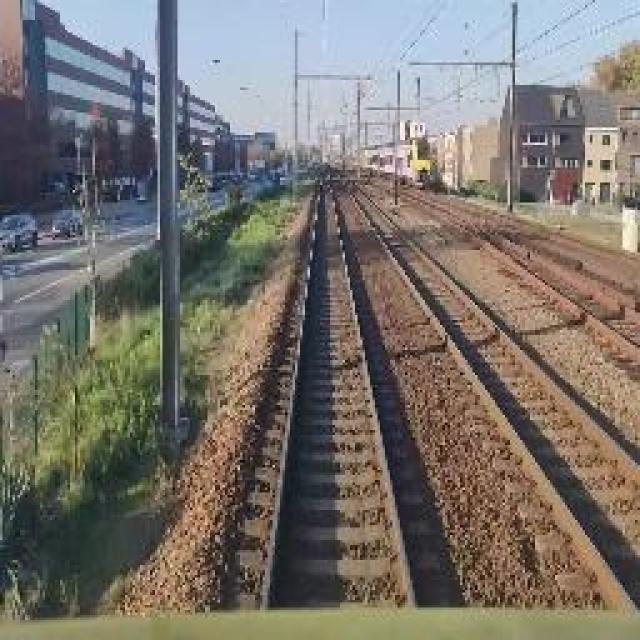rail: (213, 174, 443, 615)
